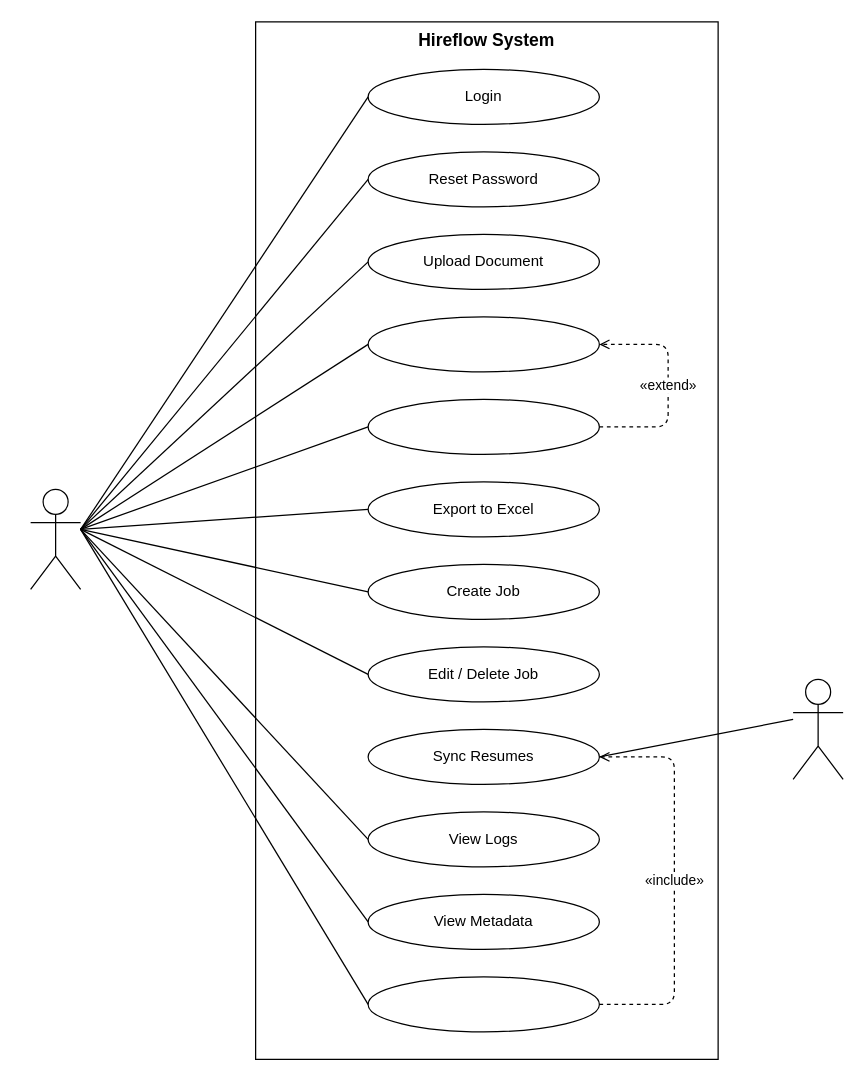
This 865x1081 diagram has some shape labels left out. The box of each missing label's shape, as (x1, y1, x2, y2) in pixels:
Email Service: (792, 678, 843, 779)
Filter Search: (367, 398, 599, 454)
HR Personnel: (29, 488, 81, 589)
Read Resumes: (367, 976, 599, 1032)
Search Documents: (367, 316, 599, 372)
